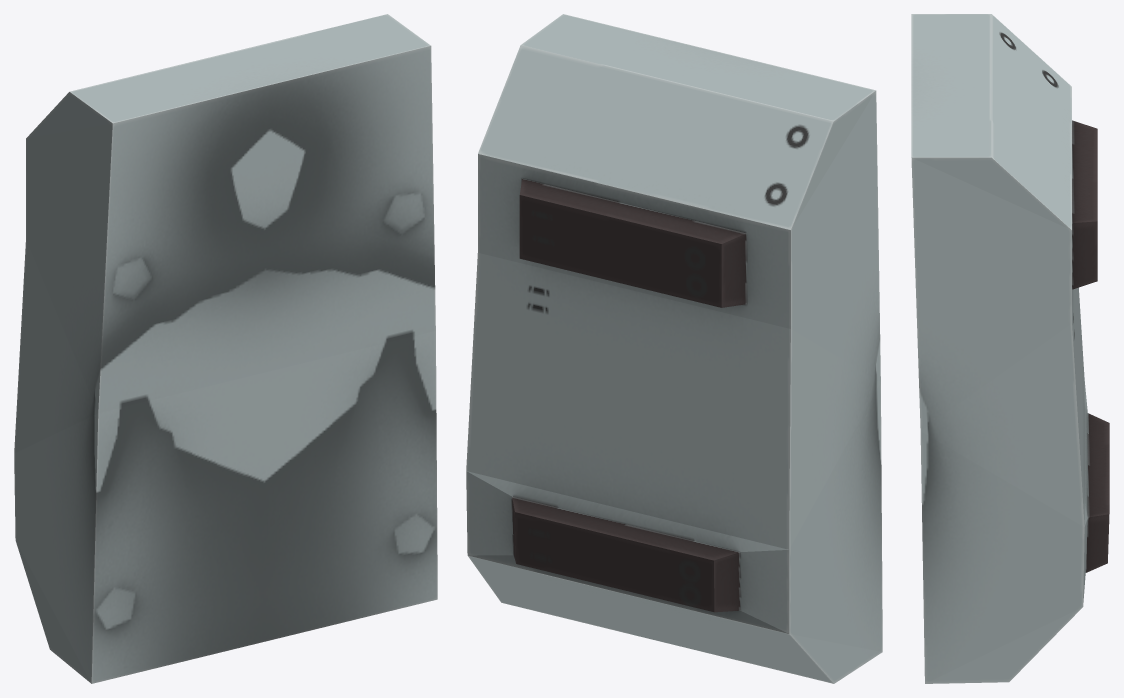
Rendered from bag.fbx.
3 renders of one model, left to right at view 1: azimuth 30°, elevation 25°; view 2: azimuth 150°, elevation 25°; view 3: azimuth 270°, elevation 25°, orthographic. The views are drawn at different scales.
Parts seen in each view (by area): view 1: Astronaut.002; view 2: Astronaut.002; view 3: Astronaut.002.
Part boxes in pixels (x1,y1,x2,y2): Astronaut.002: [14, 14, 437, 683]; Astronaut.002: [466, 14, 882, 683]; Astronaut.002: [911, 14, 1109, 683].
Bounding box in the file's own units: 141 × 219 × 75.58.
